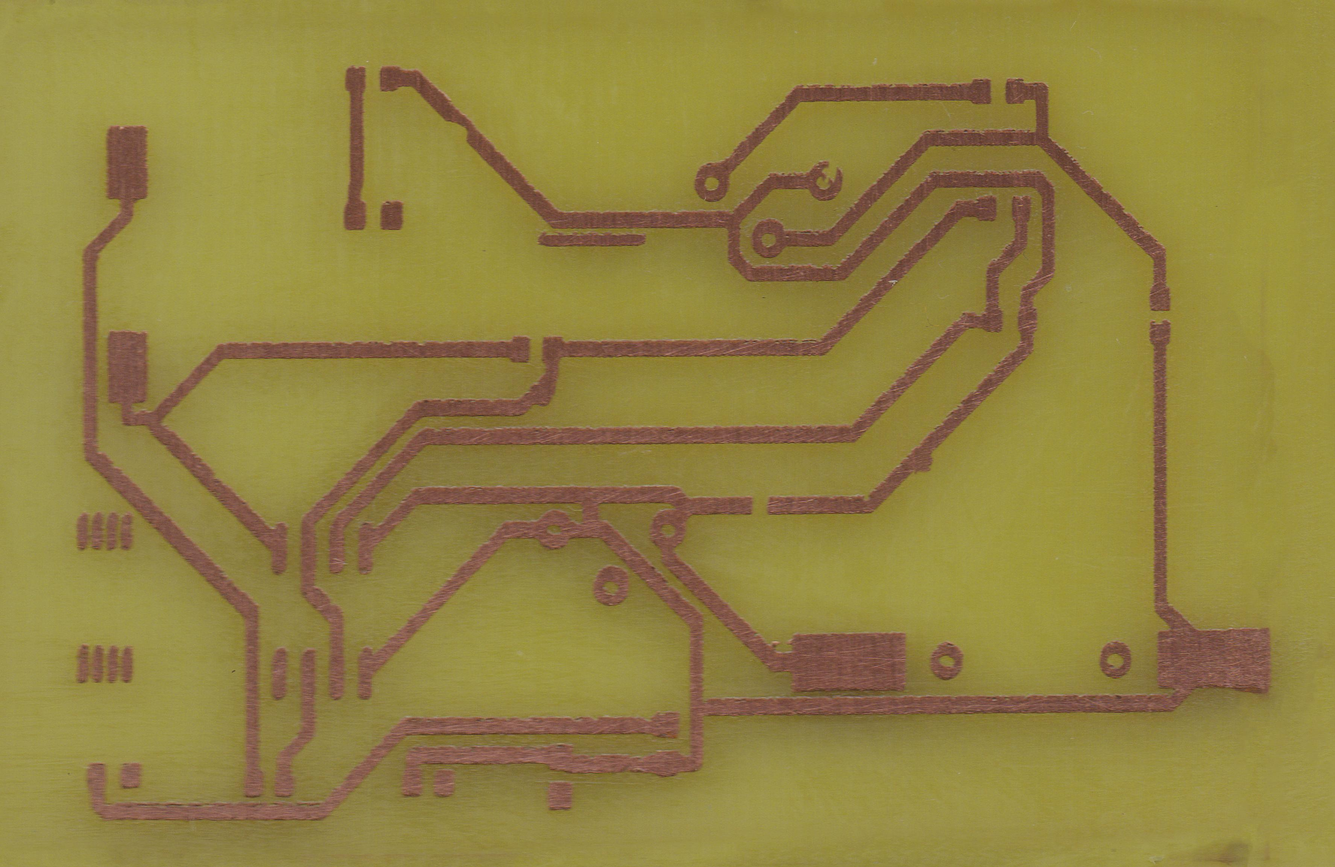missing_hole: (807, 154, 843, 209)
mouse_bite: (439, 109, 494, 156)
open_circuit: (736, 491, 791, 524)
short: (570, 482, 614, 541)
spur: (903, 440, 940, 480)
spurious_copper: (529, 226, 652, 254)
